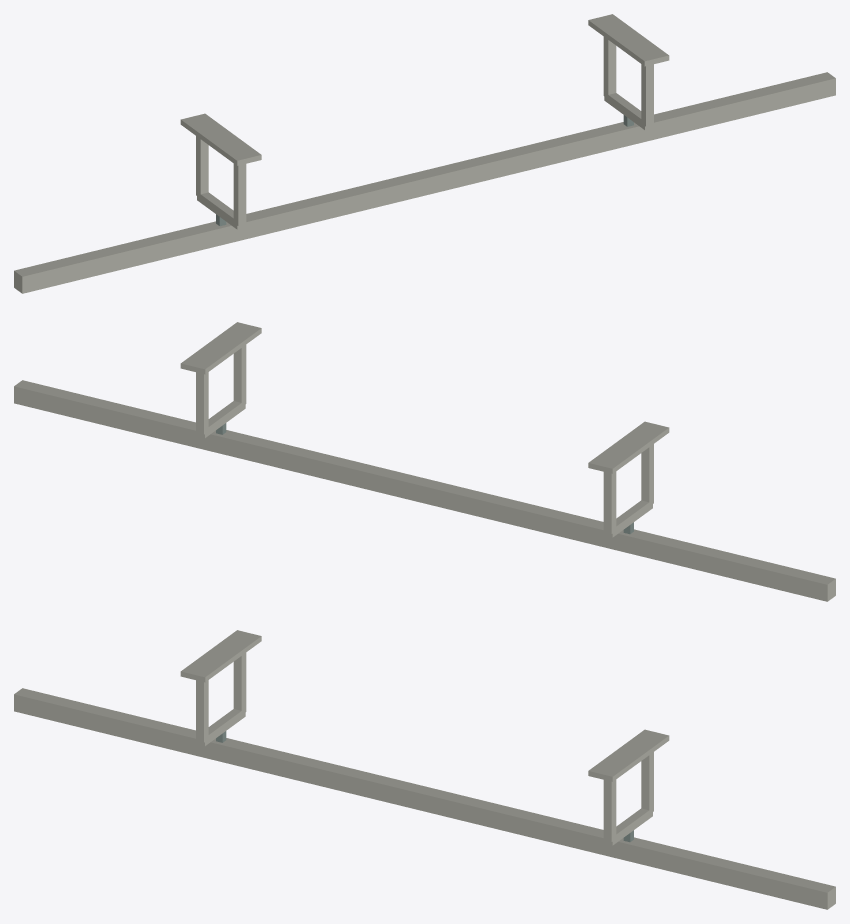
Rendered from SM_CatenariaLosa_v0_Rigida_LOD0.fbx.
The picture shows the model from 3 angles, top to bottom: view 1: azimuth 30°, elevation 25°; view 2: azimuth 150°, elevation 25°; view 3: azimuth 330°, elevation 25°; orthographic projection.
Parts seen in each view (by area): view 1: SM_catenaria_losa_v0_LOD0; view 2: SM_catenaria_losa_v0_LOD0; view 3: SM_catenaria_losa_v0_LOD0.
Part boxes in pixels (<box>): SM_catenaria_losa_v0_LOD0: <box>14,14,835,293</box>; SM_catenaria_losa_v0_LOD0: <box>14,322,835,601</box>; SM_catenaria_losa_v0_LOD0: <box>14,630,835,909</box>.
Size of the model in its own units: 9.98 by 1.22 by 1.2.
